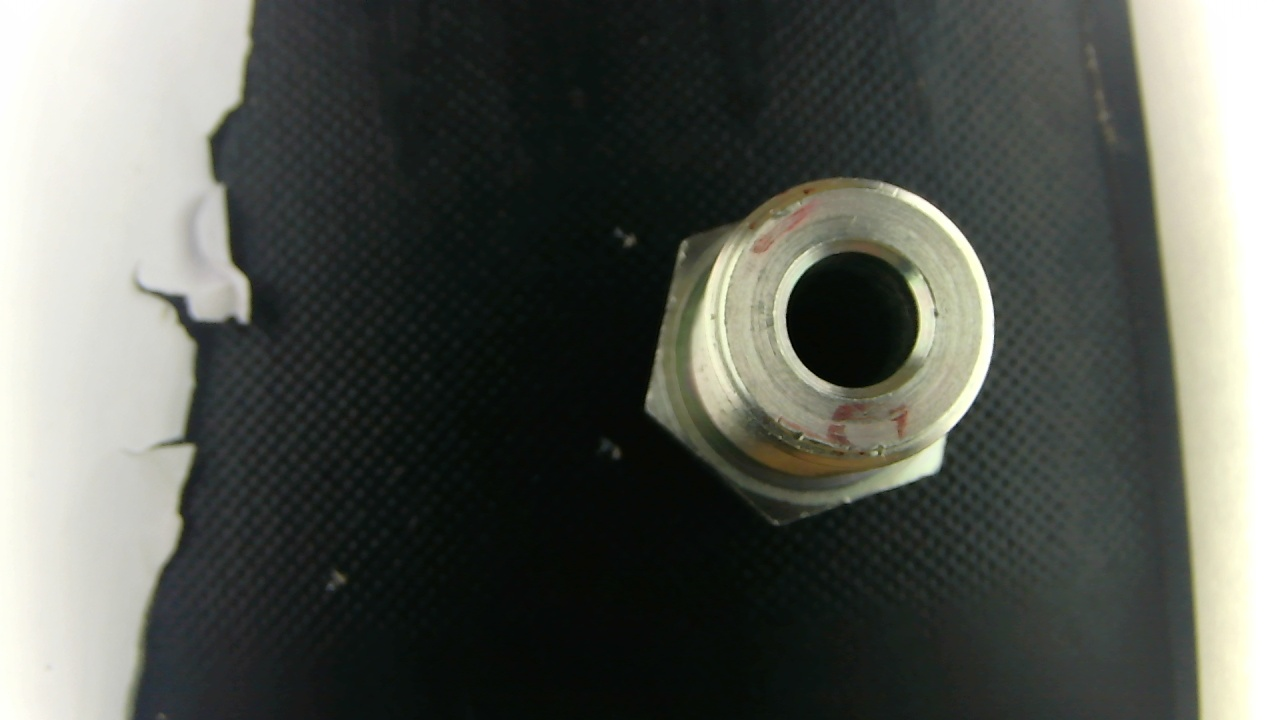SurfaceDent_Adaptor: (780, 426, 836, 461)
